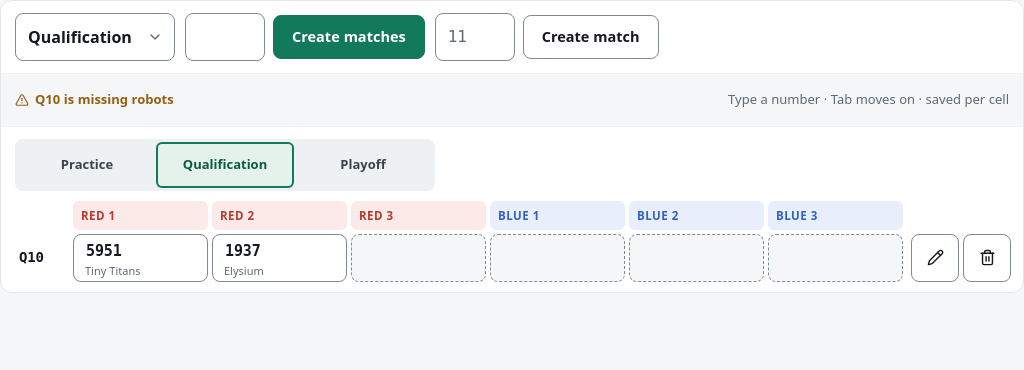
Test: LineupGrid (typed cells) › tapping away from a partial number with one suggestion takes that team
This screenshot has width=1024, height=370.
In the 3rd dropdown named "Q10 Red 3": point(418, 258) [351,234,486,282], type "673"
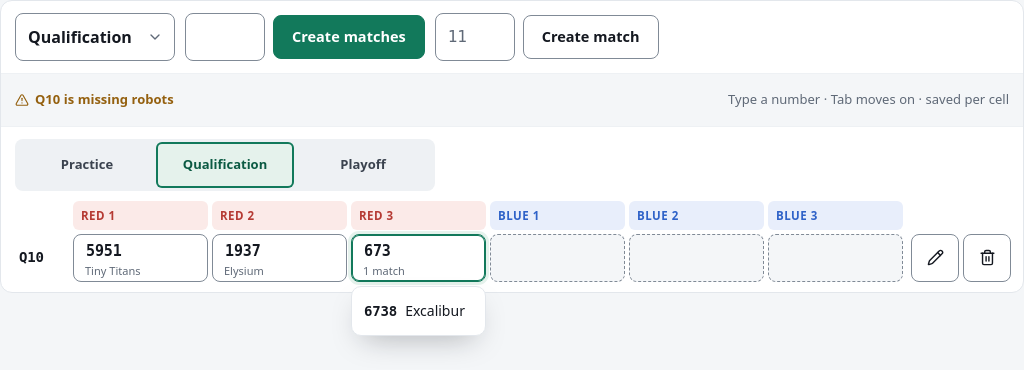
Click the text "Q10": point(31, 257) [19,249,44,265]
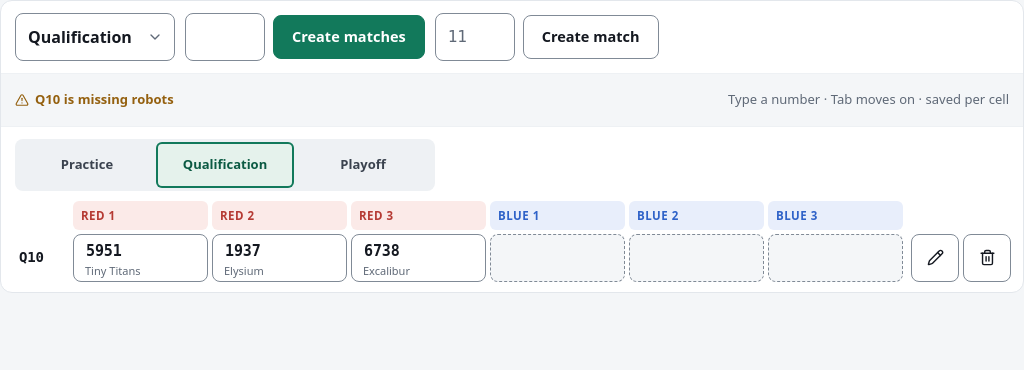
Now the dropdown named "Q10 Red 3" next to "Excalibur" holds "6738", box [351,234,486,282]
